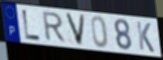0: (90, 15, 110, 50)
8: (113, 18, 134, 52)
K: (135, 20, 156, 55)
L: (21, 9, 42, 42)
R: (42, 11, 68, 44)
V: (64, 12, 87, 48)
